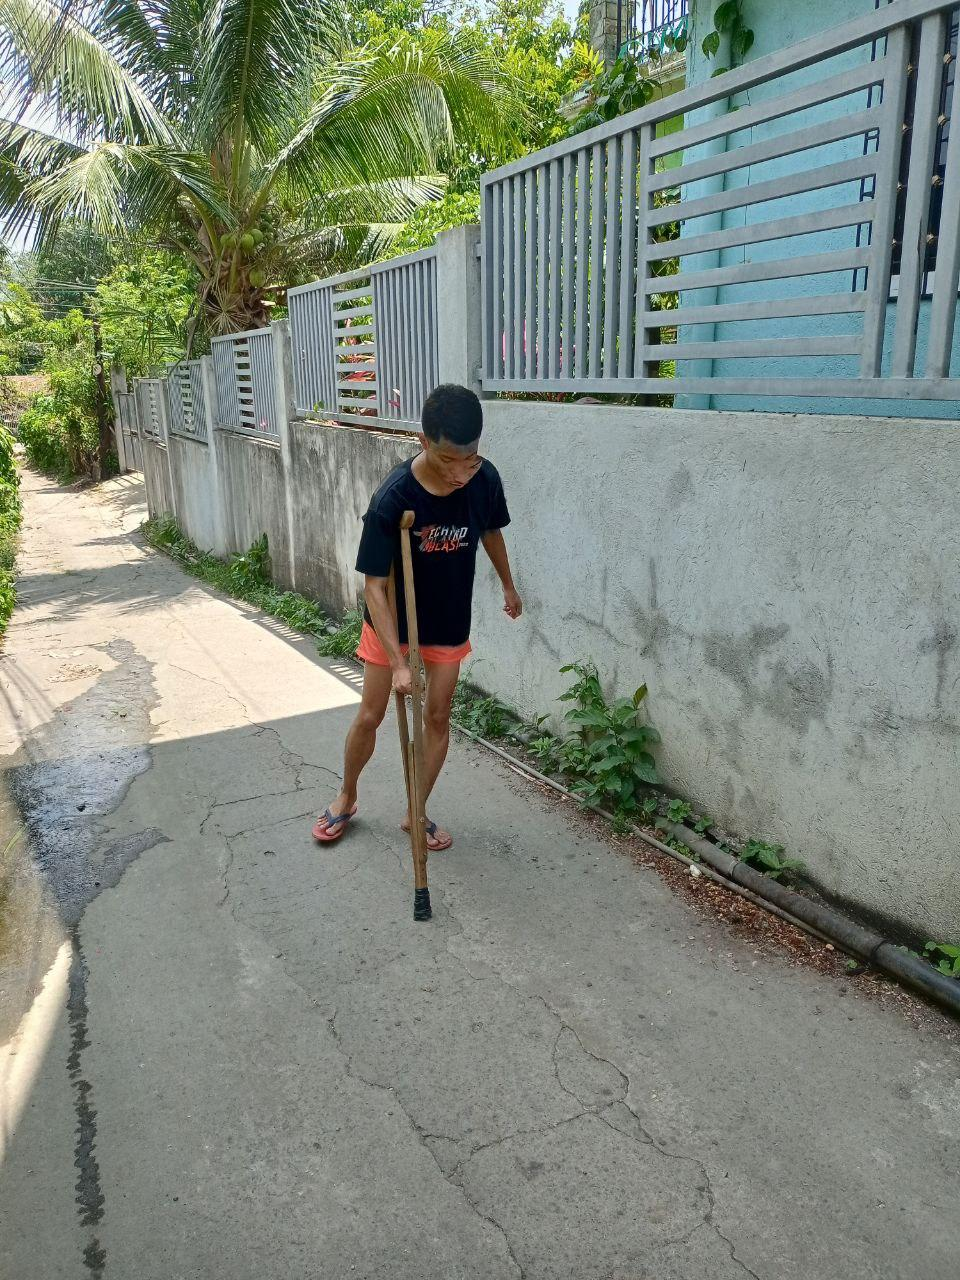crutches: (308, 376, 531, 930)
